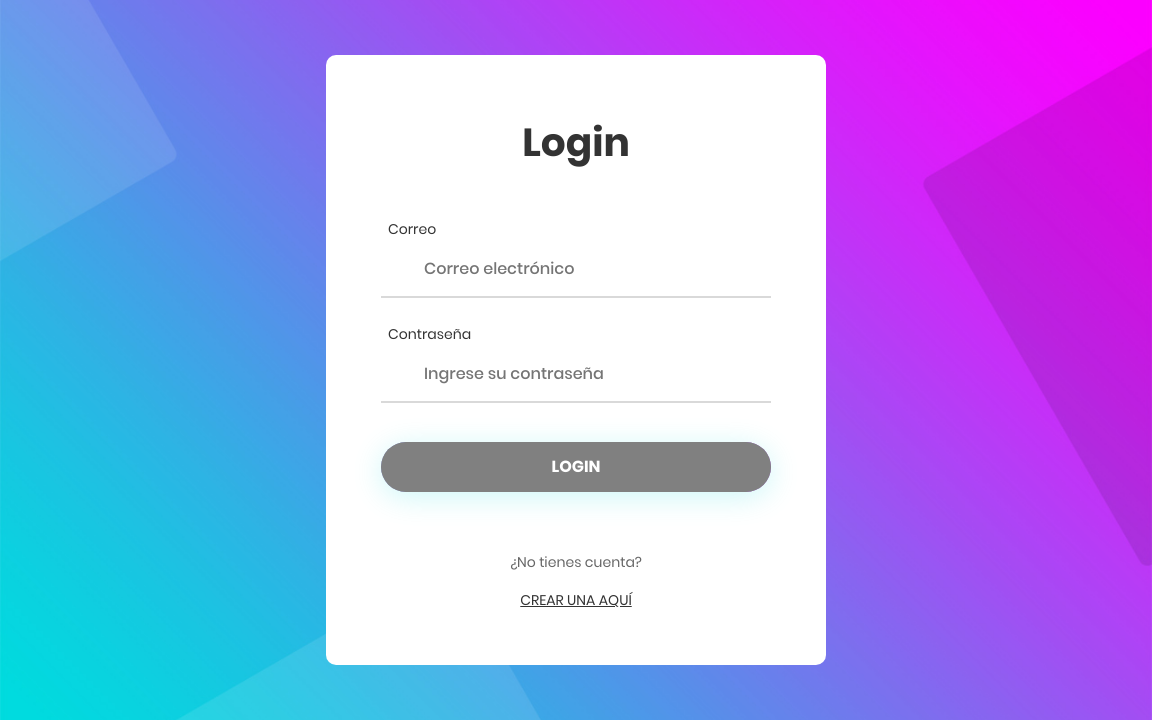
Test case: Logging In › el boton debe estar desabilitado
Type "pedro@test.com" into the field with placeholder "Correo electrónico" at (576, 269), box [381,241,771,296]
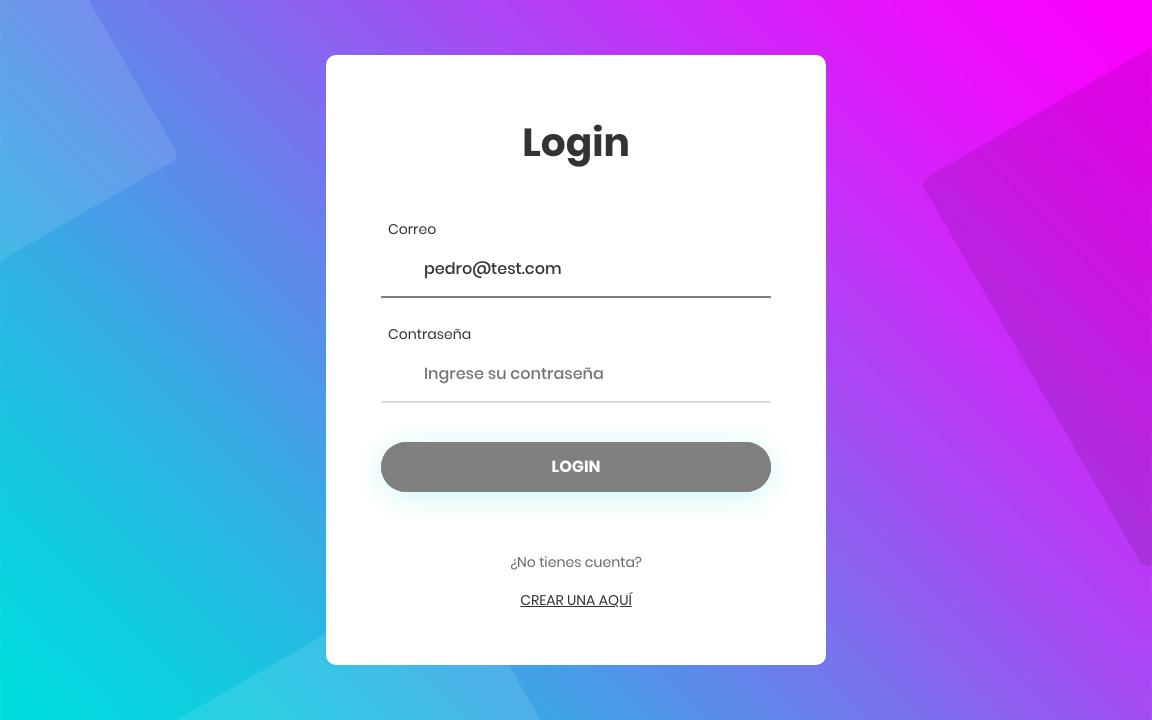
Check: the submit button is disabled, box [381,442,771,492]
Clear the field at (576, 269), box [381,241,771,296]
Type "123456" into the password field with placeholder "Ingrese su contraseña" at (576, 374), box [381,346,771,401]
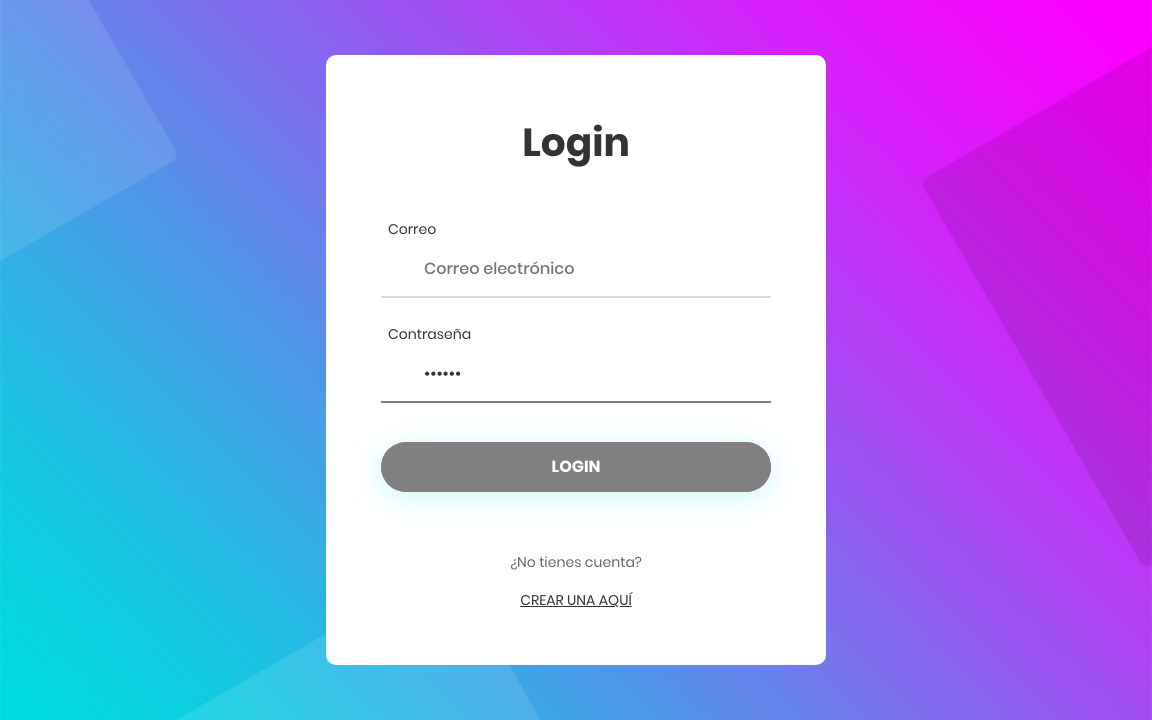
Check: the submit button is disabled, box [381,442,771,492]
Clear the password field at (576, 374), box [381,346,771,401]
Type "pedro@test.com" into the field with placeholder "Correo electrónico" at (576, 269), box [381,241,771,296]
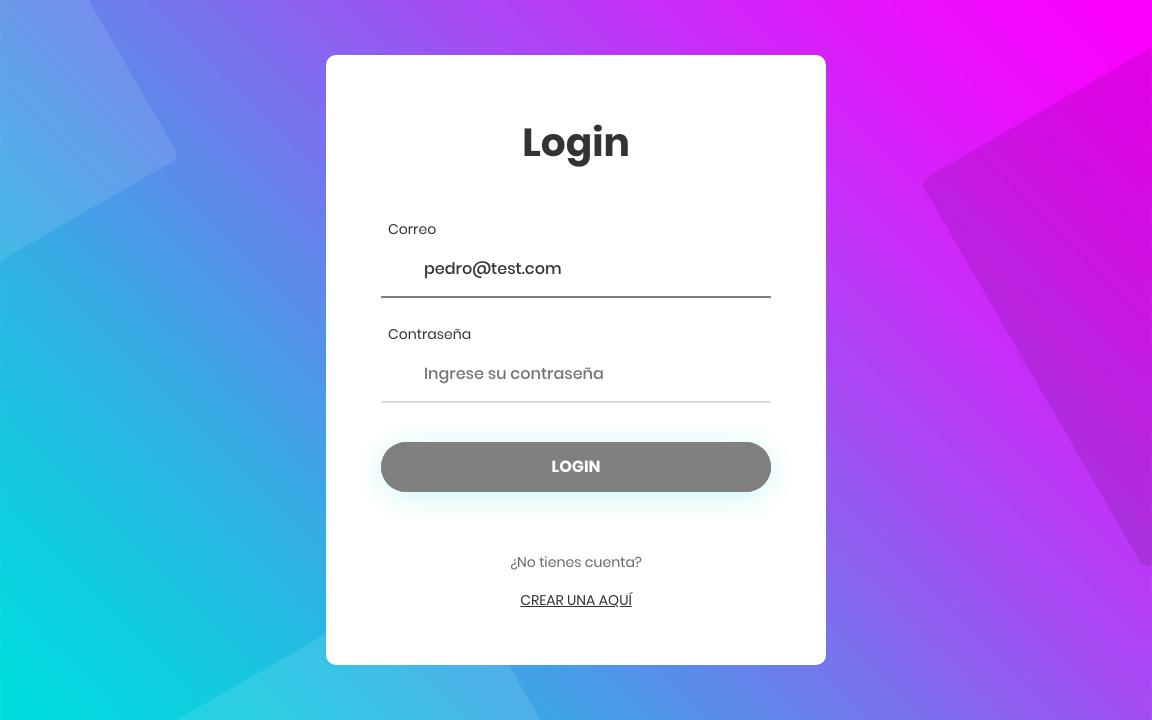
Type "12345" into the password field with placeholder "Ingrese su contraseña" at (576, 374), box [381,346,771,401]
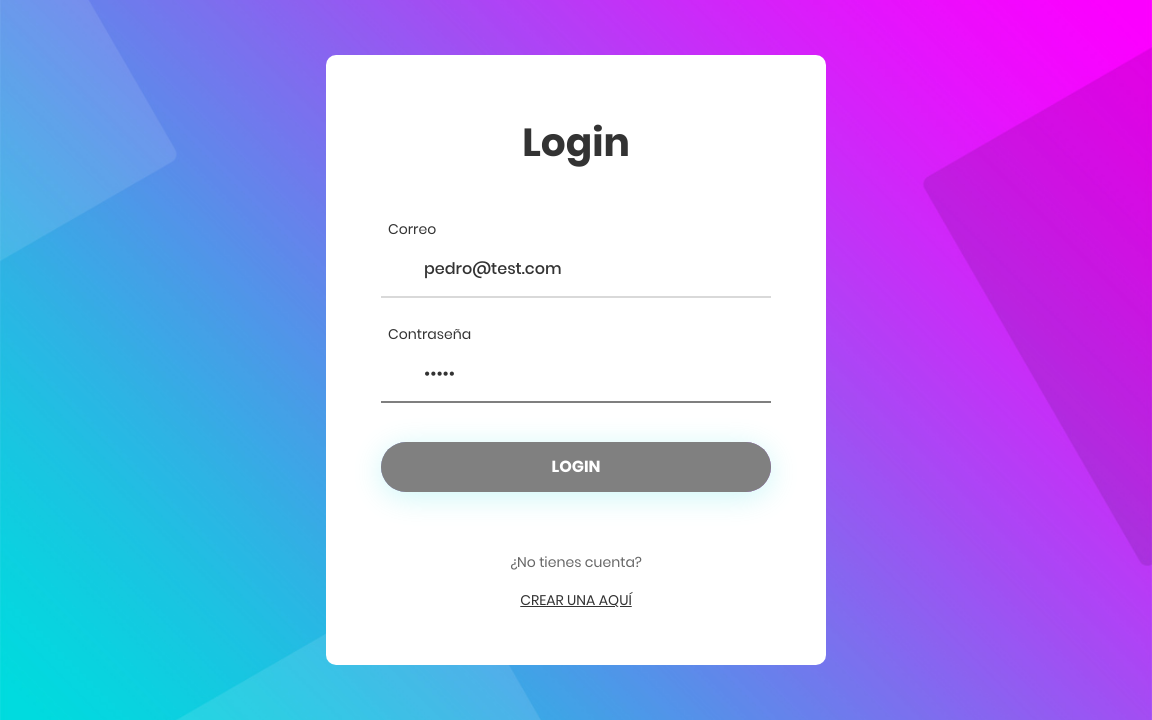
Check: the submit button is disabled, box [381,442,771,492]
Type "123456" into the password field at (576, 374), box [381,346,771,401]
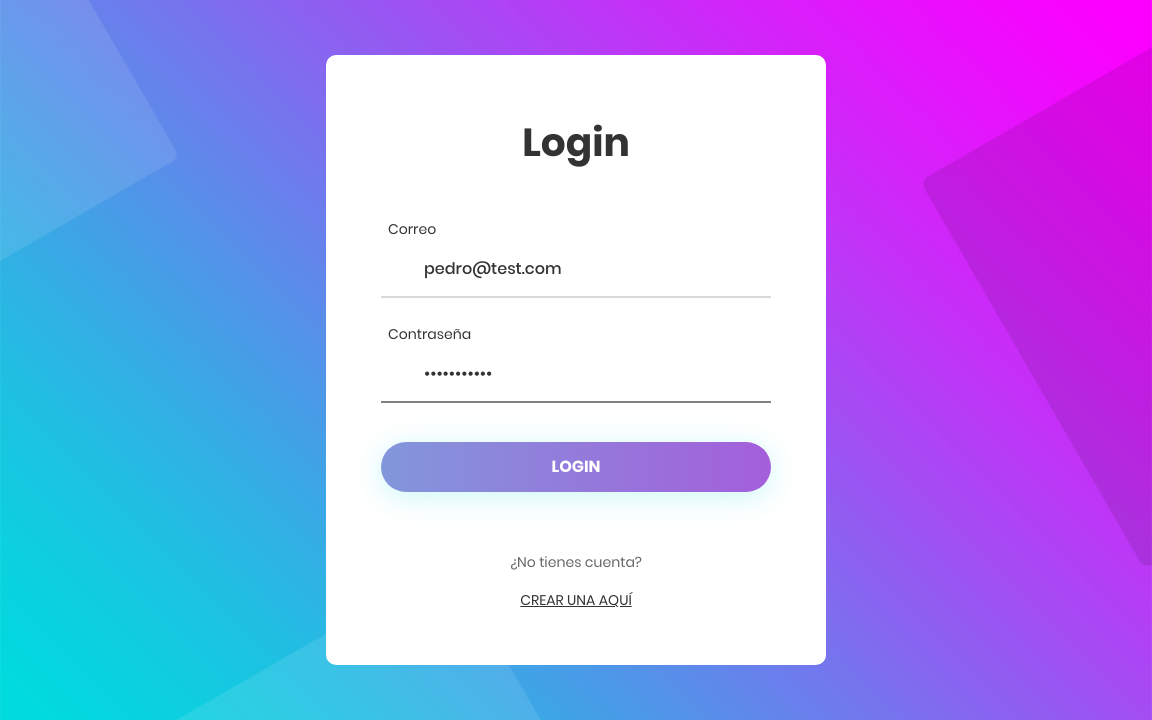
Check: the submit button is enabled
Replace the text in the field with "pedro" at (576, 269), box [381,241,771,296]
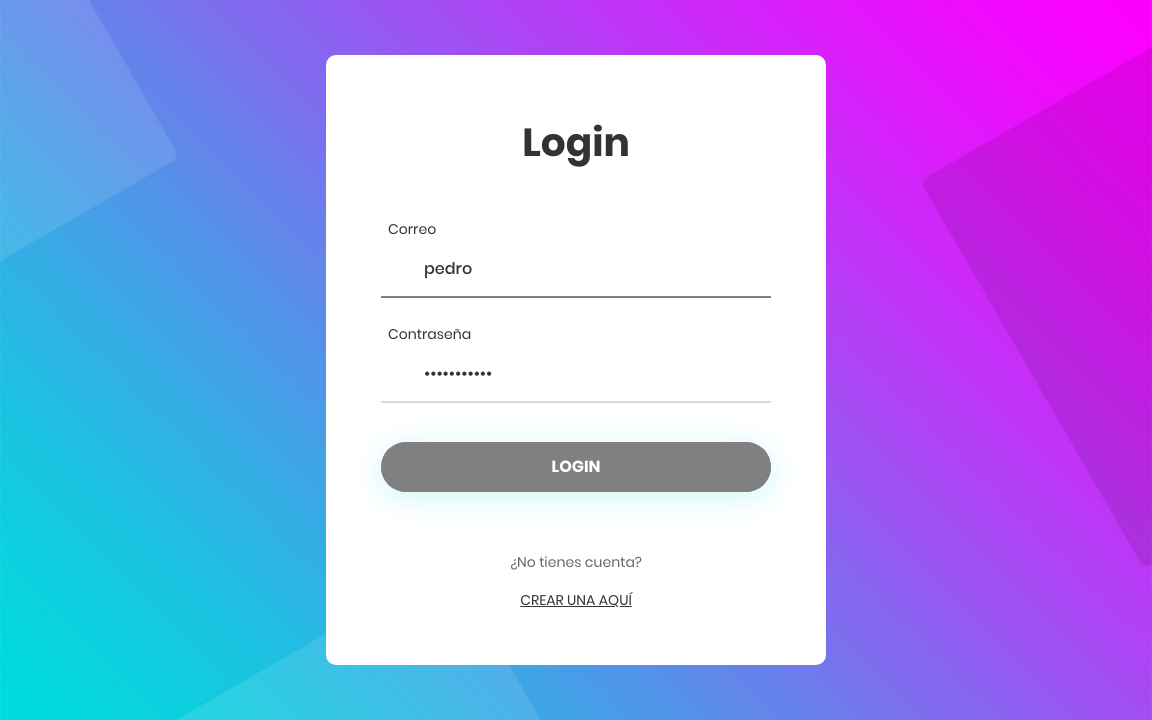
Check: the submit button is disabled, box [381,442,771,492]
